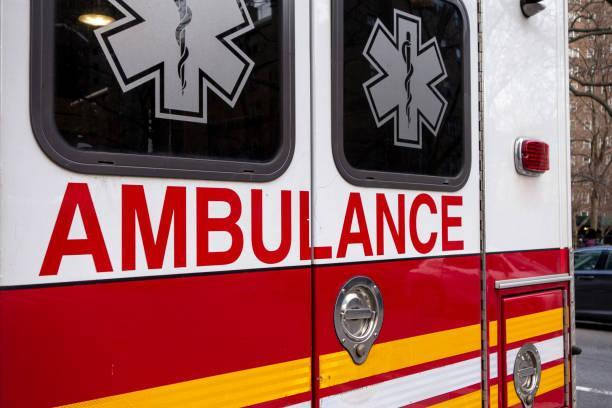Ambulance: (16, 176, 477, 307), (353, 4, 451, 156)
